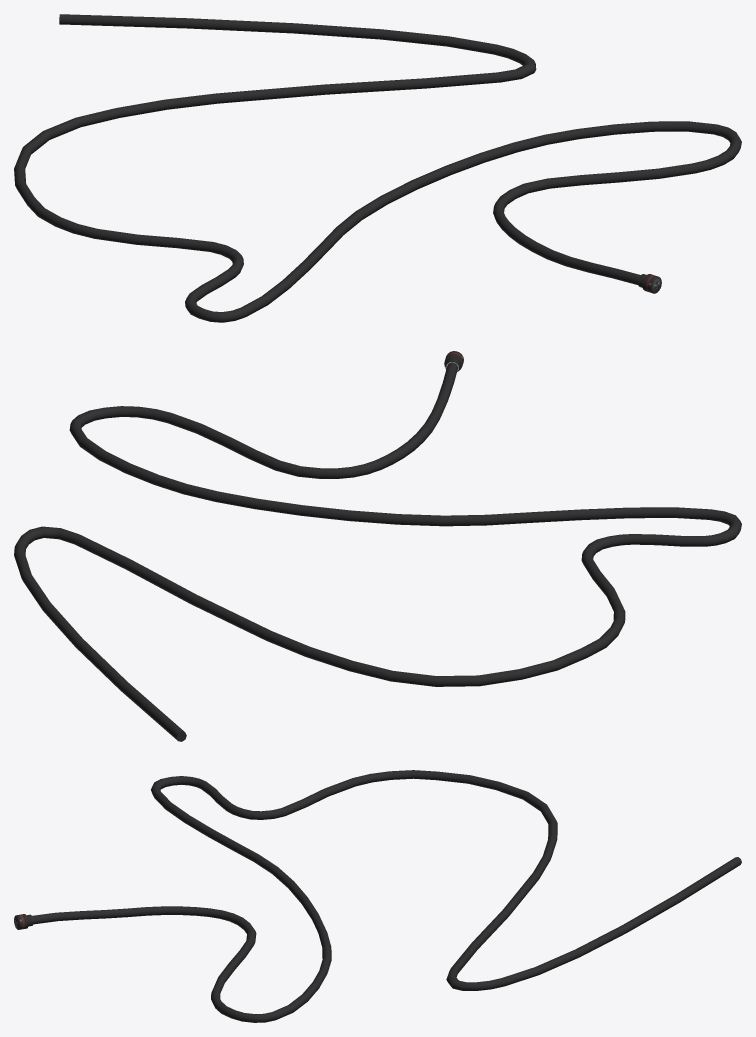
Rendered from SM_Wire_B.FBX.
3 renders of one model, top to bottom at view 1: azimuth 30°, elevation 25°; view 2: azimuth 150°, elevation 25°; view 3: azimuth 270°, elevation 25°, orthographic. The views are drawn at different scales.
Visible parts, largest first — view 1: SM_Wire_B; view 2: SM_Wire_B; view 3: SM_Wire_B.
Part boxes in pixels (<box>): SM_Wire_B: <box>14,14,741,322</box>; SM_Wire_B: <box>14,351,741,741</box>; SM_Wire_B: <box>14,770,741,1022</box>.
Bounding box in the file's own units: 495 × 16.29 × 614.
1 material, 1 textured.
